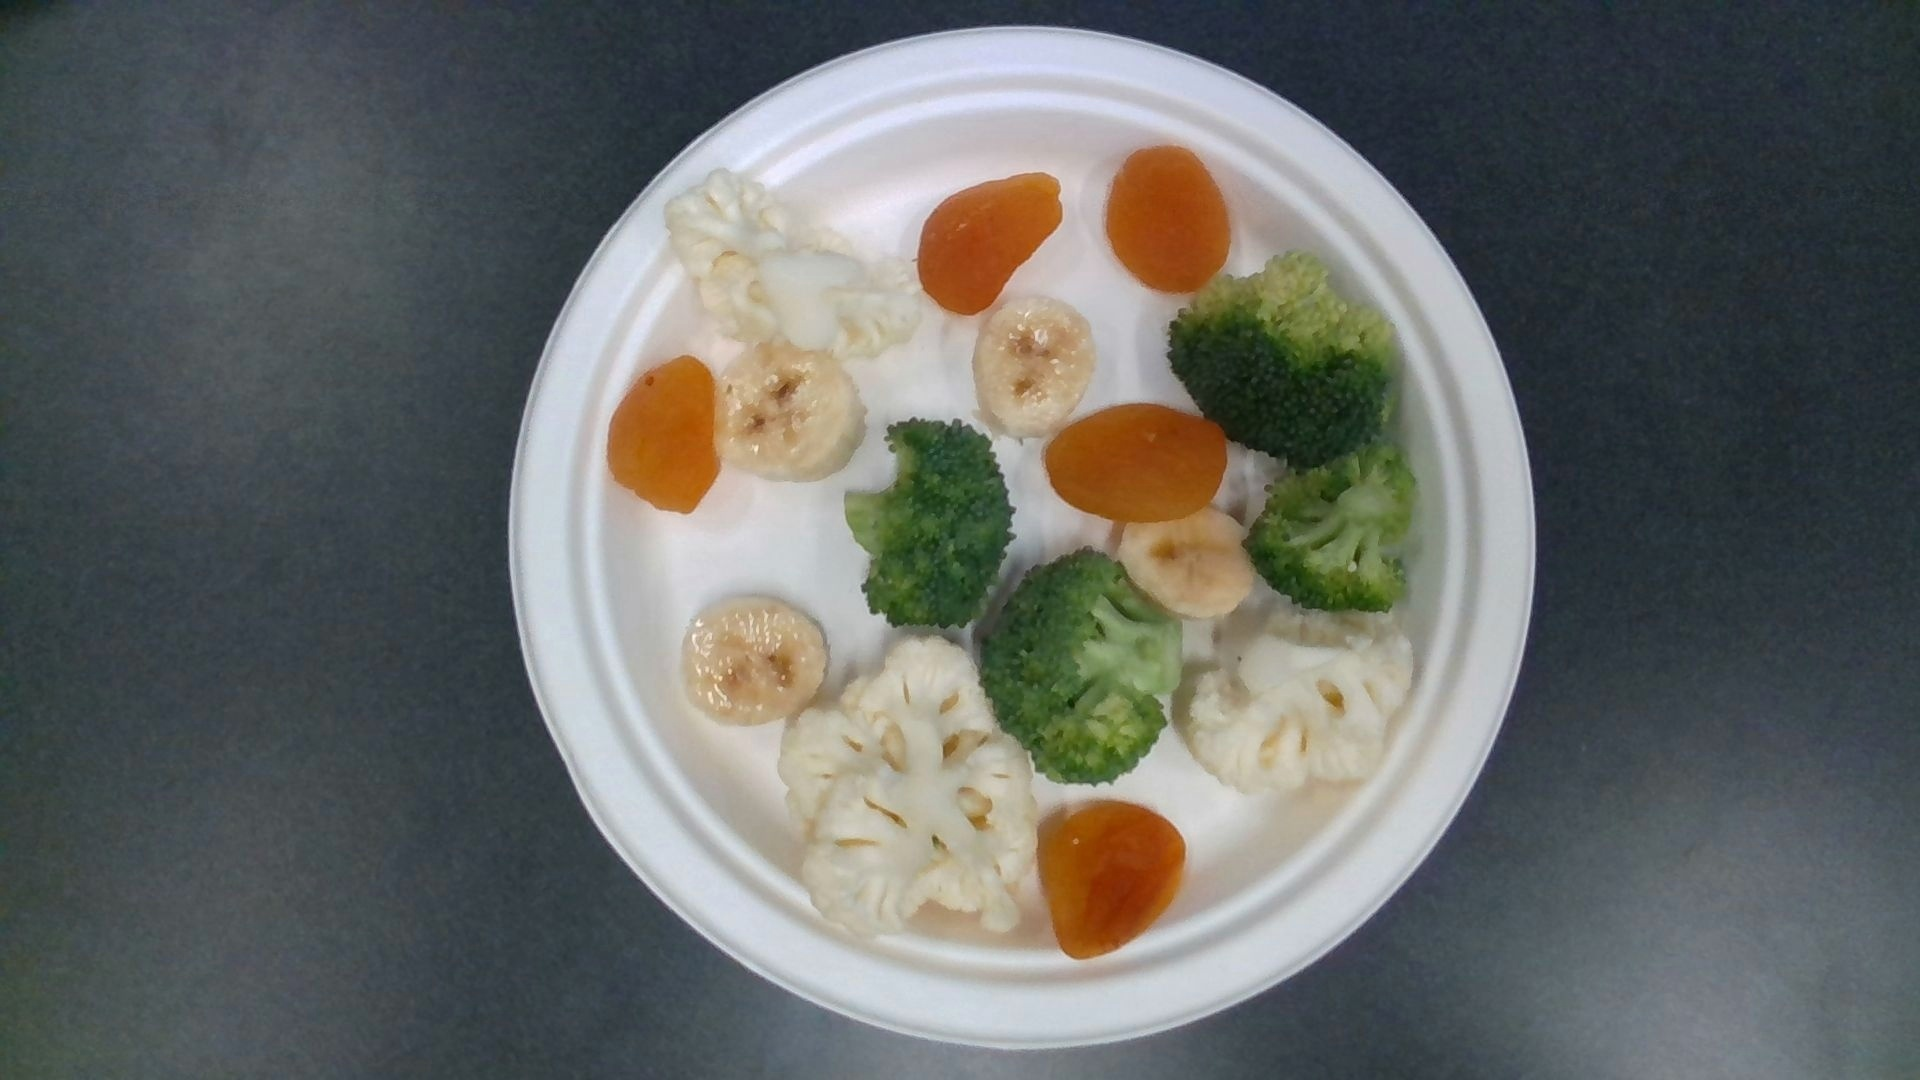apricot: (1036, 800, 1185, 955), (1048, 406, 1229, 516), (920, 173, 1062, 310), (609, 357, 727, 513), (1109, 150, 1230, 290)
banana: (717, 343, 865, 475), (684, 596, 827, 725), (975, 295, 1092, 433), (1120, 510, 1257, 618)
broccoli: (985, 550, 1182, 781), (1170, 256, 1394, 458), (847, 421, 1010, 622), (1251, 440, 1415, 615)
cauliflower: (782, 638, 1034, 928), (667, 171, 922, 345), (1189, 607, 1414, 789)
